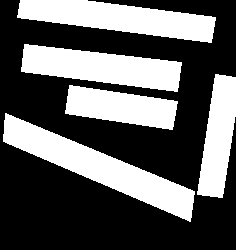parkingspot: (3, 113, 194, 221), (17, 0, 215, 42), (21, 44, 181, 91), (65, 85, 177, 129), (197, 74, 236, 197)
